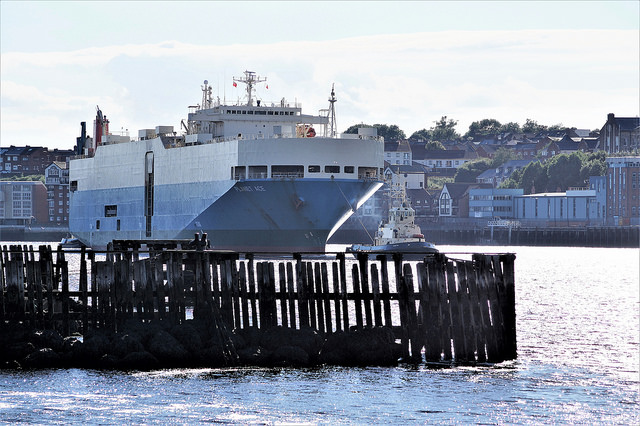PCC: (69, 75, 381, 252)
tug_boat: (352, 196, 443, 262)
